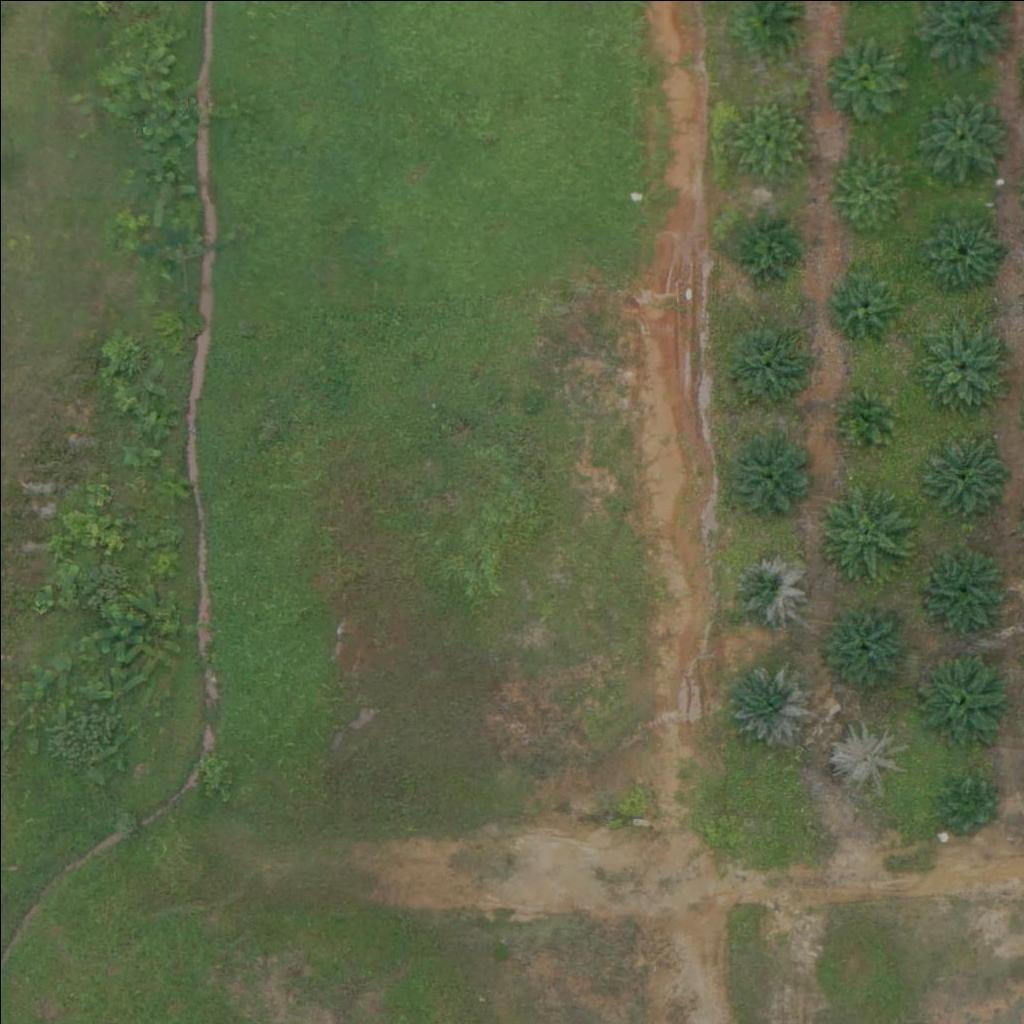Kelapa_Sawit: (910, 648, 1010, 748), (811, 594, 911, 694), (811, 480, 911, 580), (914, 202, 1002, 291), (727, 658, 815, 746), (725, 428, 813, 516), (724, 317, 812, 405), (919, 89, 1007, 177), (824, 36, 911, 124), (918, 543, 1005, 631), (919, 427, 1006, 515), (918, 317, 1005, 405), (829, 719, 904, 795), (728, 549, 803, 625), (823, 265, 898, 340), (733, 102, 808, 177), (726, 210, 801, 285), (831, 154, 906, 229), (833, 382, 896, 445), (938, 773, 1000, 835)
